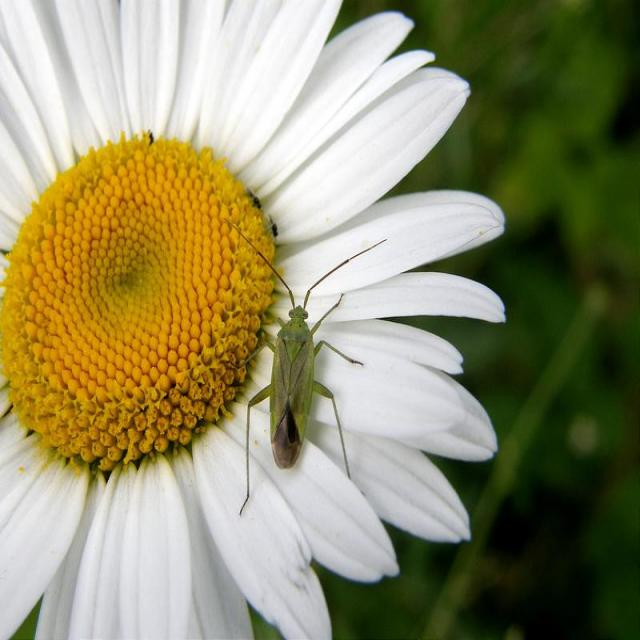Miridae-Adult-: (223, 202, 389, 503)
